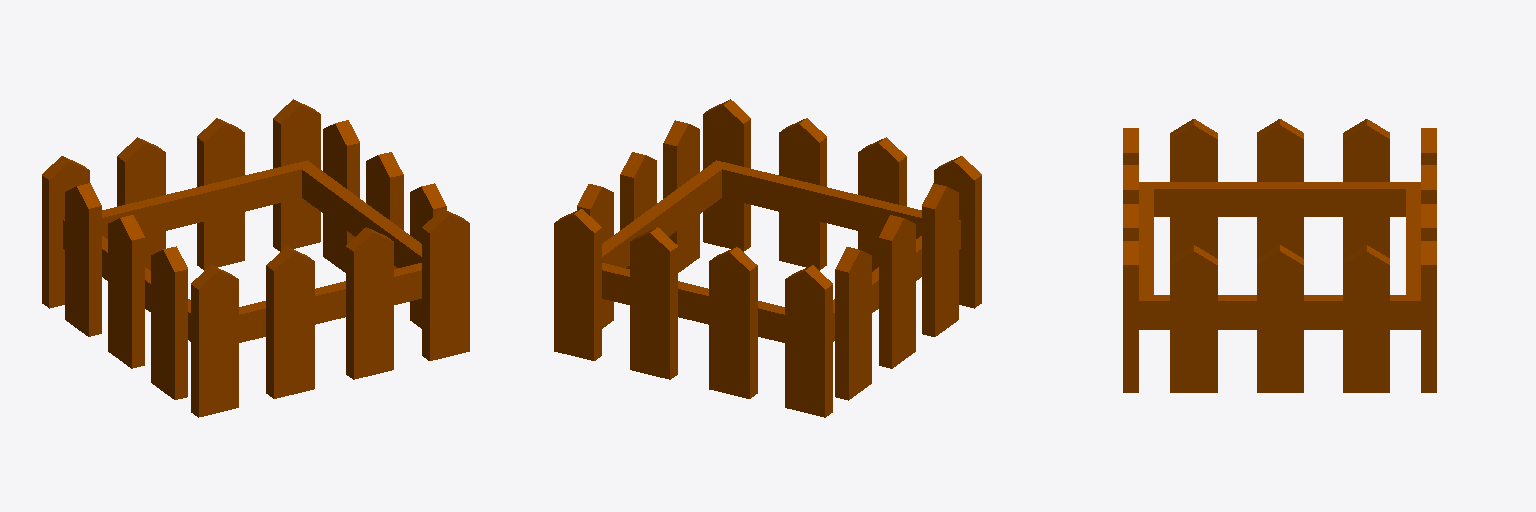
The model's file is fance2.obj.
3 renders of one model, left to right at view 1: azimuth 30°, elevation 25°; view 2: azimuth 150°, elevation 25°; view 3: azimuth 270°, elevation 25°, orthographic.
Parts seen in each view (by area): view 1: Duplicate01, Duplicate05, Duplicate29, Duplicate03, Duplicate02, Duplicate04, Duplicate24, Duplicate26, Duplicate30, Duplicate20, Duplicate22, Box02 (+1 smaller); view 2: Duplicate01, Duplicate05, Duplicate22, Duplicate20, Duplicate24, Duplicate26, Box02, Duplicate03, Duplicate04, Duplicate02, Duplicate30, Duplicate29 (+1 smaller); view 3: Duplicate05, Duplicate31, Duplicate30, Duplicate04, Duplicate02, Duplicate03, Duplicate01, Duplicate26, Duplicate29, Box02, Duplicate22, Duplicate20 (+1 smaller).
Part boxes in pixels (x1,y1,x2,y2): Duplicate01: (191,209,469,417); Duplicate05: (323,120,446,328); Duplicate29: (102,160,314,238); Duplicate03: (108,215,144,368); Duplicate02: (65,183,101,336); Duplicate04: (151,246,187,399); Duplicate24: (197,118,244,270); Duplicate26: (273,99,320,251); Duplicate30: (302,166,421,267); Duplicate20: (42,156,89,308); Duplicate22: (117,137,165,270); Box02: (239,263,421,342); Duplicate01: (703,99,981,308); Duplicate05: (577,120,699,328); Duplicate22: (709,247,757,398); Duplicate20: (785,265,832,417); Duplicate24: (630,227,677,379); Duplicate26: (554,209,601,360); Box02: (722,164,960,249); Duplicate03: (879,215,915,368); Duplicate04: (922,183,958,336); Duplicate02: (835,247,871,400); Duplicate30: (602,160,729,267); Duplicate29: (602,263,784,342); Duplicate05: (1170,245,1389,392); Duplicate31: (1154,182,1420,216); Duplicate30: (1139,295,1405,329); Duplicate04: (1170,119,1217,258); Duplicate02: (1343,119,1389,258); Duplicate03: (1257,119,1303,258); Duplicate01: (1123,128,1138,392); Duplicate26: (1421,241,1436,392); Duplicate29: (1406,189,1420,329); Box02: (1139,182,1153,294); Duplicate22: (1421,165,1436,203); Duplicate20: (1421,128,1436,164).
Size of the model in its own units: 1 by 0.5 by 1.